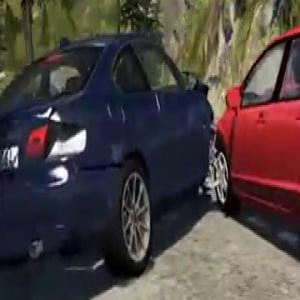negligible: (0, 2, 300, 272)
